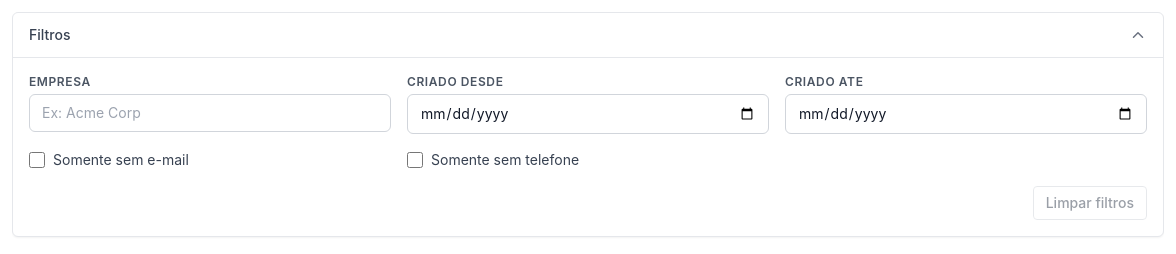
Test: ContatoFiltersPanel — collapse/expand › clicar no cabecalho colapsa o conteudo
The image size is (1176, 254).
Expected: the field labelled "Empresa" is shown, [29,94,391,132]
Step 1. Click the button "Filtros" → (50, 34), box [13,13,1163,57]
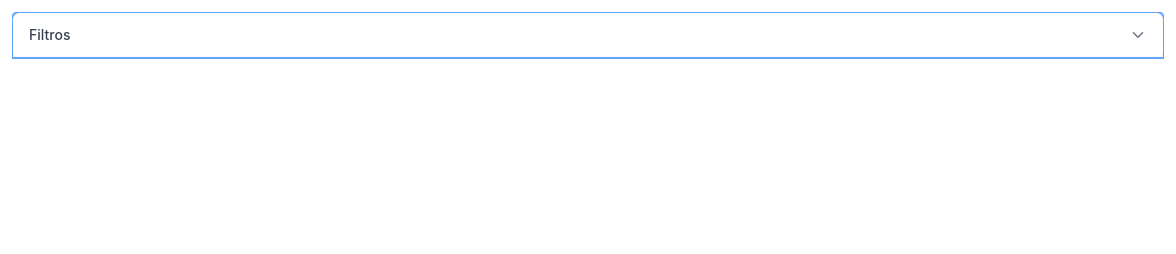
Now the label labelled "Empresa" is gone
